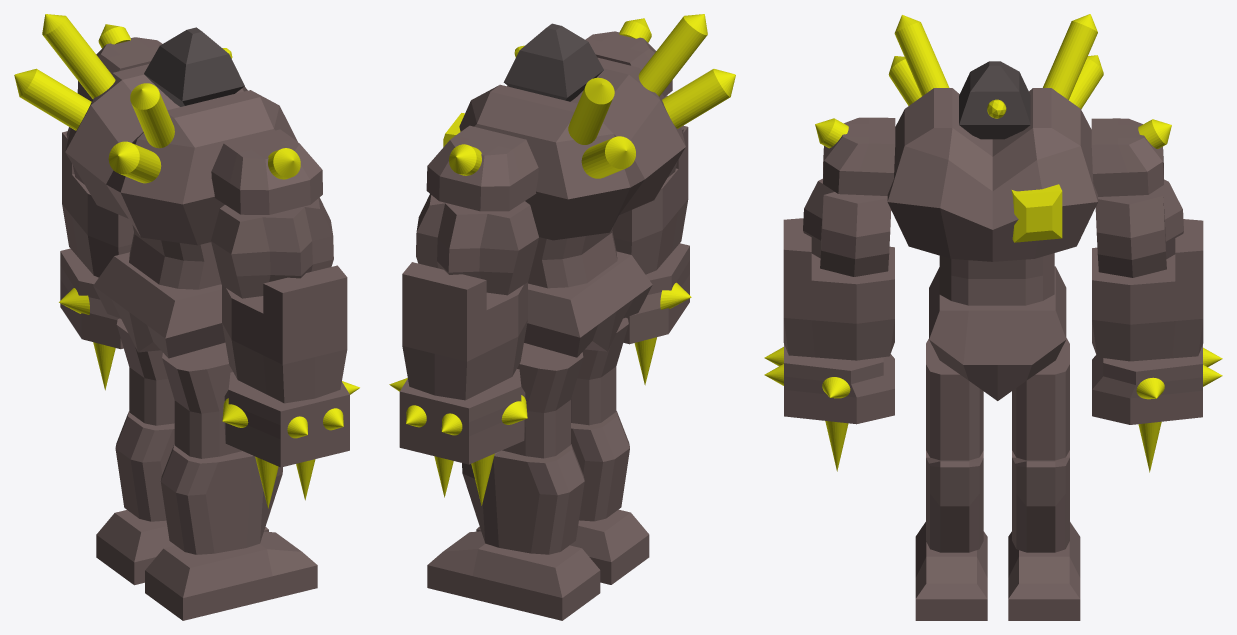
Rendered from NewMelee Enemy.fbx.
3 renders of one model, left to right at view 1: azimuth 30°, elevation 25°; view 2: azimuth 150°, elevation 25°; view 3: azimuth 270°, elevation 25°, orthographic. The views are drawn at different scales.
Parts seen in each view (by area): view 1: Cube.001, Cube.011, Cube.017, Cube.016, Cube.010, Cube.003, Cube.012, Cube.009, Cube.015, Cube, Cube.005, Cube.013 (+15 smaller); view 2: Cube.001, Cube.013, Cube.006, Cube.005, Cube.008, Cube.003, Cube.014, Cube.007, Cube.004, Cube.011, Cube, Cube.016 (+15 smaller); view 3: Cube.001, Cube.011, Cube.013, Cube.003, Cube.008, Cube.010, Cube.014, Cube.012, Cube.017, Cube.006, Cube.016, Cube.005 (+15 smaller).
Part boxes in pixels (<box>): Cube.001: <box>65,64,297,245</box>; Cube.011: <box>222,265,347,403</box>; Cube.017: <box>145,531,317,620</box>; Cube.016: <box>160,444,282,554</box>; Cube.010: <box>211,197,333,298</box>; Cube.003: <box>93,252,225,358</box>; Cube.012: <box>224,372,349,467</box>; Cube.009: <box>211,129,322,214</box>; Cube.015: <box>162,342,241,458</box>; Cube: <box>144,27,244,106</box>; Cube.005: <box>115,411,174,521</box>; Cube.013: <box>62,131,133,277</box>; Cube.001: <box>459,57,685,240</box>; Cube.013: <box>402,262,527,400</box>; Cube.006: <box>427,531,600,620</box>; Cube.005: <box>462,444,584,554</box>; Cube.008: <box>416,194,538,295</box>; Cube.003: <box>524,251,652,357</box>; Cube.014: <box>399,369,525,464</box>; Cube.007: <box>426,125,538,211</box>; Cube.004: <box>502,343,583,458</box>; Cube.011: <box>612,125,688,274</box>; Cube: <box>503,23,603,101</box>; Cube.016: <box>571,411,629,521</box>; Cube.001: <box>887,88,1097,261</box>; Cube.011: <box>783,218,894,360</box>; Cube.013: <box>1092,219,1203,361</box>; Cube.003: <box>929,266,1066,400</box>; Cube.008: <box>1095,179,1183,277</box>; Cube.010: <box>803,178,891,276</box>; Cube.014: <box>1092,345,1202,424</box>; Cube.012: <box>784,344,894,424</box>; Cube.017: <box>915,522,987,620</box>; Cube.006: <box>1008,522,1080,620</box>; Cube.016: <box>926,450,983,552</box>; Cube.005: <box>1012,450,1069,552</box>.
Size of the model in its own units: 275 by 658 by 522.
